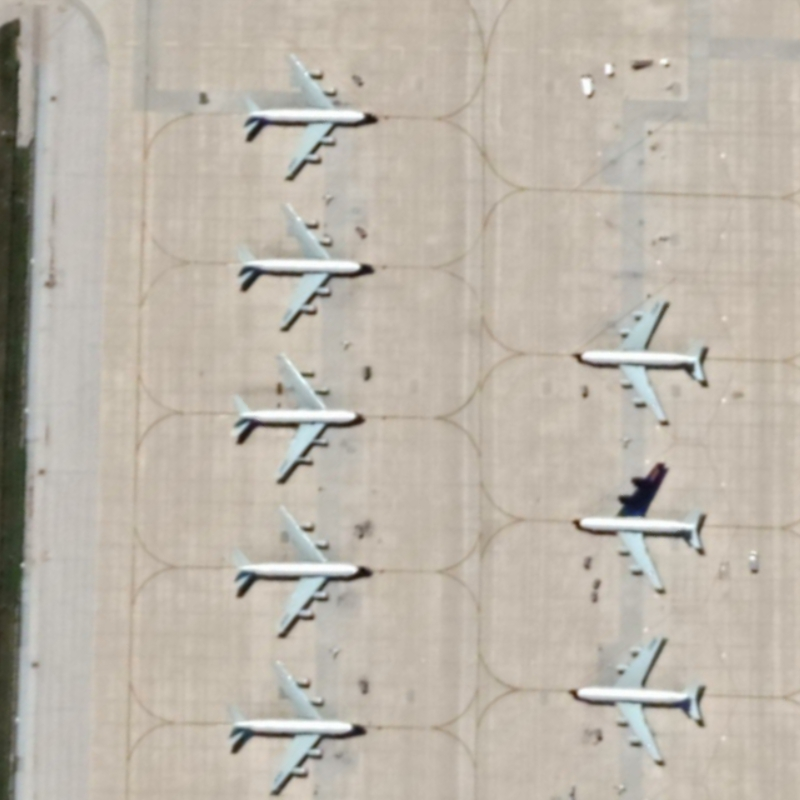A11: (560, 451, 714, 604), (222, 491, 377, 641), (217, 339, 370, 488), (564, 293, 721, 437), (216, 653, 371, 794), (565, 625, 710, 774), (226, 195, 377, 338), (236, 44, 385, 188)
